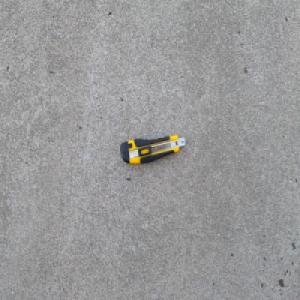Cutter: (119, 134, 187, 164)
